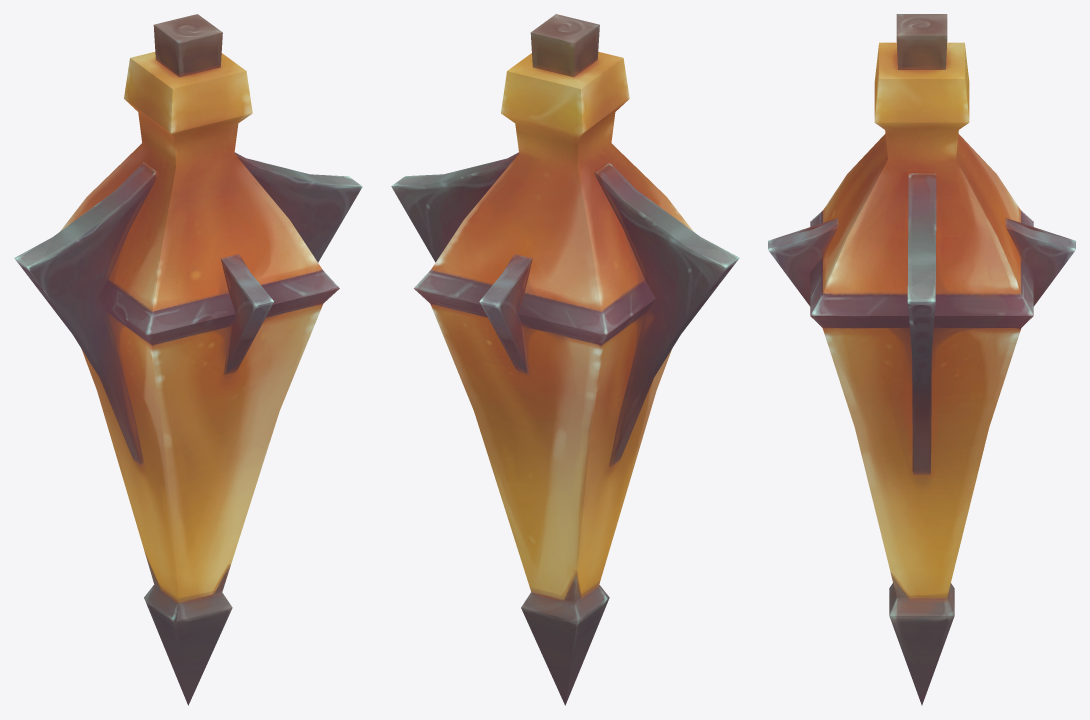
Rendered from potion2.glb.
The picture shows the model from 3 angles, left to right: view 1: azimuth 30°, elevation 25°; view 2: azimuth 150°, elevation 25°; view 3: azimuth 270°, elevation 25°; orthographic projection.
Visible parts, largest first — view 1: Cube; view 2: Cube; view 3: Cube.
Part boxes in pixels (x1,y1,x2,y2): Cube: (14, 14, 362, 705); Cube: (391, 14, 739, 705); Cube: (768, 14, 1075, 705).
Bounding box in the file's own units: 4.86 × 9.4 × 3.85.
1 material, 1 textured.
